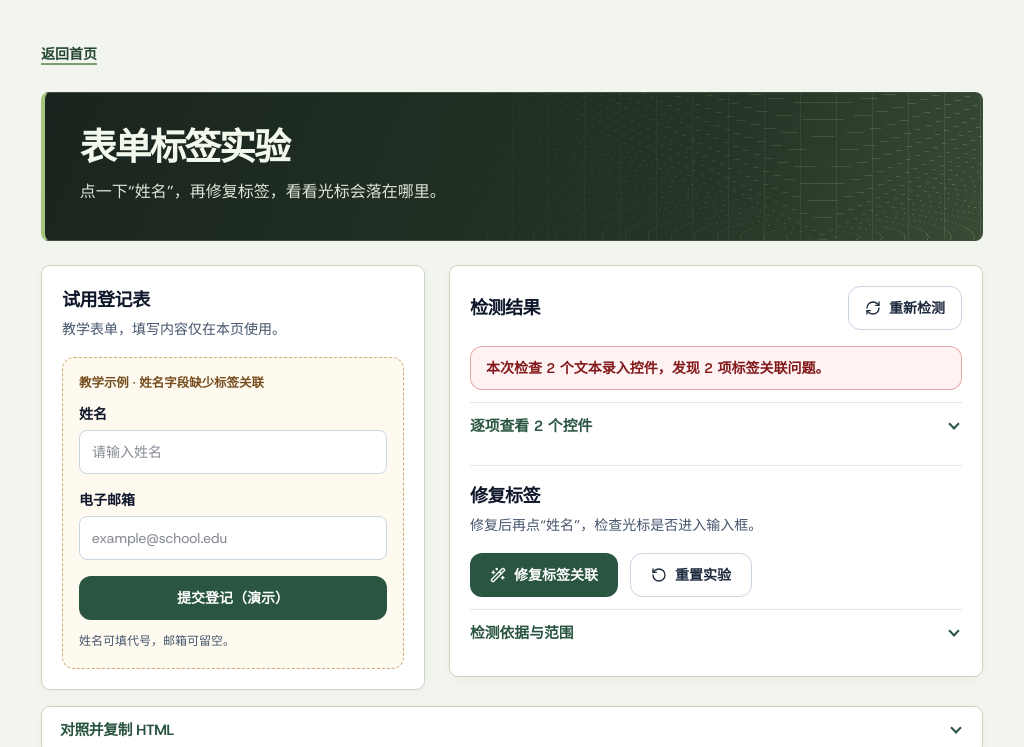
Test: FormLabelLabPage · 重置与重新检测（要求 #7） › 点「重新检测」按当前真实 DOM 播报数量
The width and height of the screenshot is (1024, 747).
What coordinates should you click on to do the following:
click the button "重新检测"
I would click on:
 (905, 308)
Its box is [848,286,962,330].
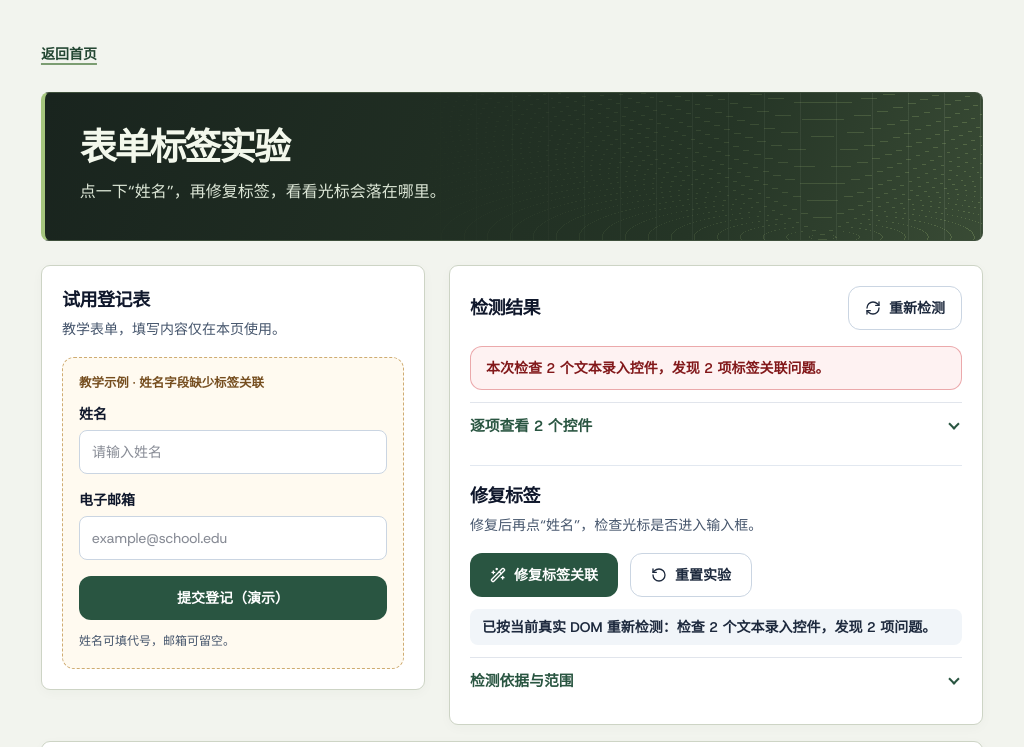
Result: the message "已按当前真实 DOM 重新检测：检查 2 个文本录入控件，发现 2 项问题。" is shown at [470,609,962,645]
What coordinates should you click on to do the following:
click the button "修复标签关联"
I would click on:
 (544, 575)
Its box is [470,553,618,597].
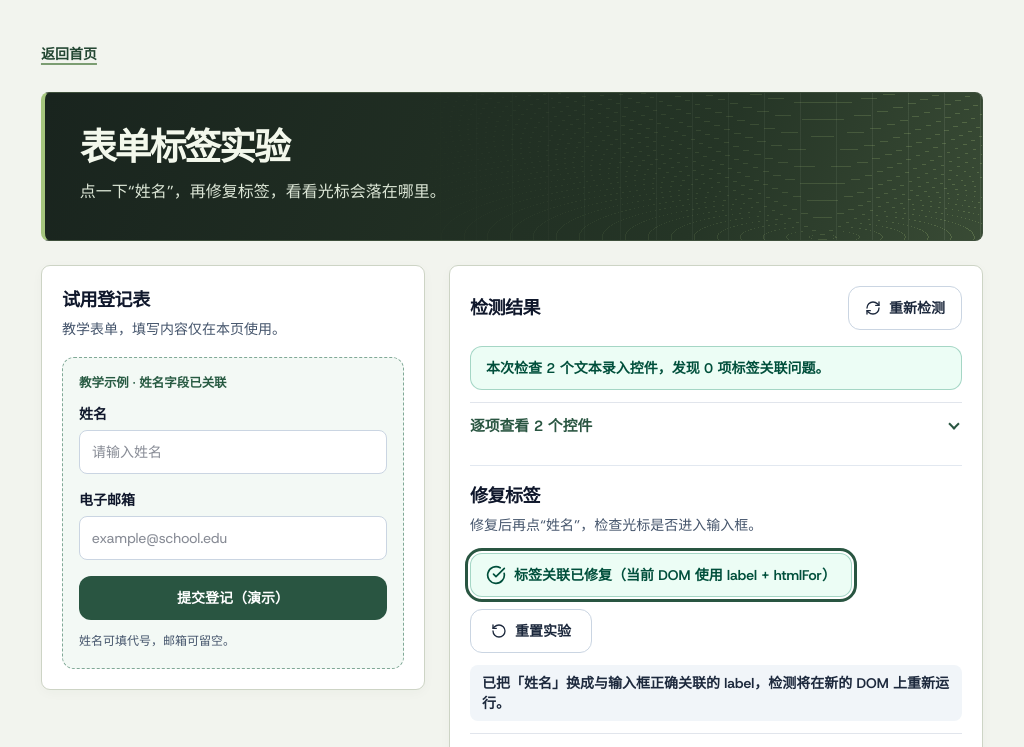
What coordinates should you click on to do the following:
click the button "重新检测"
I would click on:
 (905, 308)
Its box is [848,286,962,330].
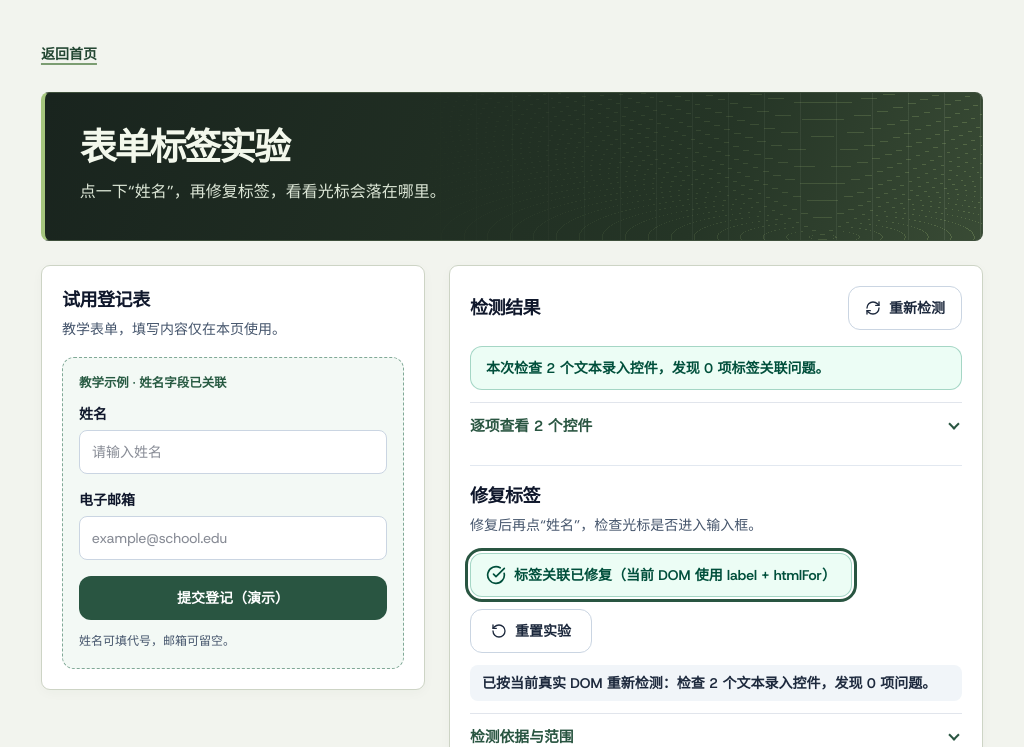
Result: the message "已按当前真实 DOM 重新检测：检查 2 个文本录入控件，发现 0 项问题。" is shown at [470,665,962,701]
